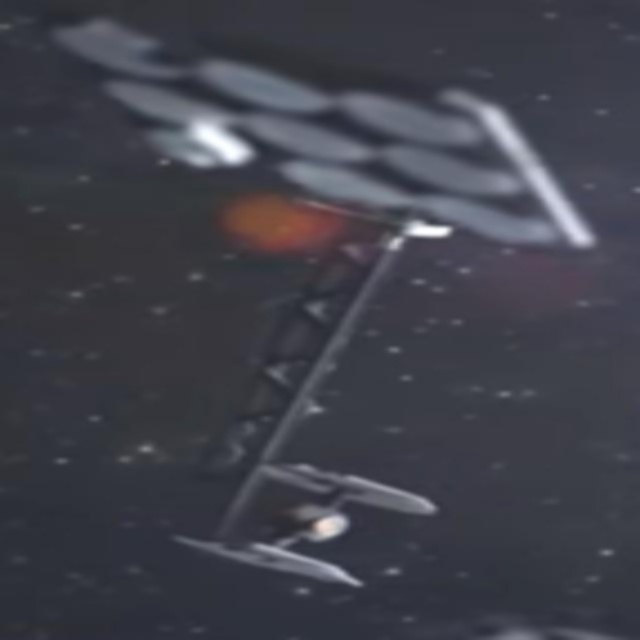large_debris: (32, 2, 585, 604), (385, 601, 640, 640)
